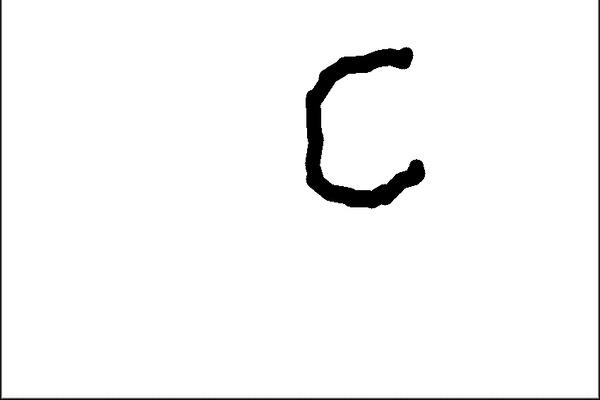C: (300, 40, 428, 211)
